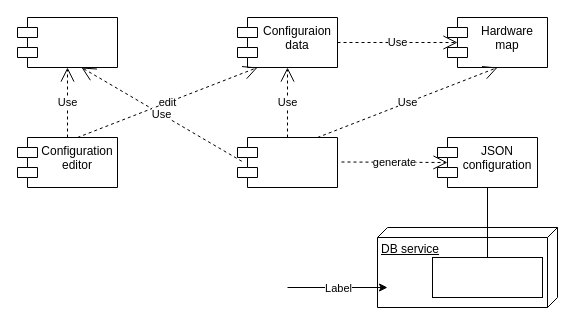
The diagram is 575 pixels wide and 325 high, and some of its shapes have lost their labels. The centre of each missing label's shape, as x and y in pixels:
"Configuration generator" belongs at point (287, 162).
"Run record" belongs at point (487, 277).
"Schema" belongs at point (67, 42).
